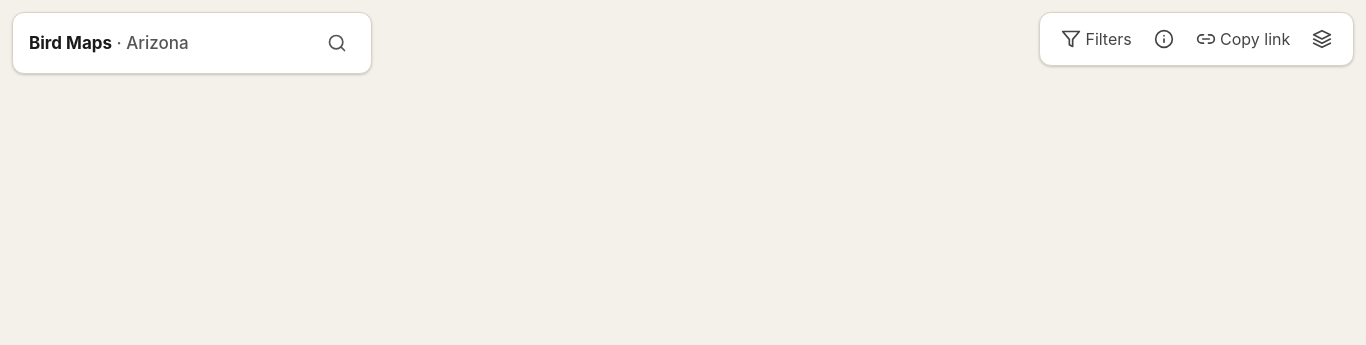
Test case: <AppHeader> › opening the scope disclosure closes an open theme popover
The width and height of the screenshot is (1366, 345).
Click the button named "Map theme:": {"x": 1322, "y": 39} x1=1303 y1=21 x2=1341 y2=57
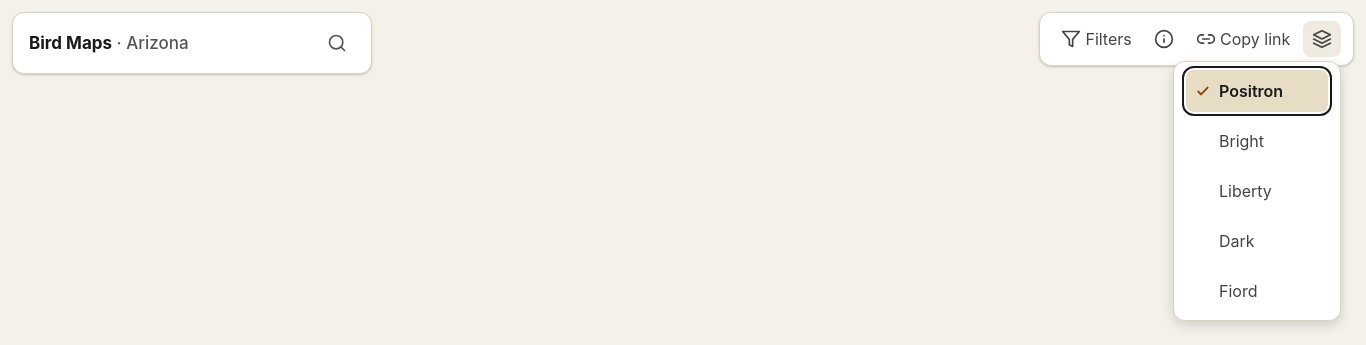
Now the button named "Map theme:" is expanded, box x1=1303 y1=21 x2=1341 y2=57
Click the button named "change region": {"x": 337, "y": 43} x1=319 y1=25 x2=355 y2=61
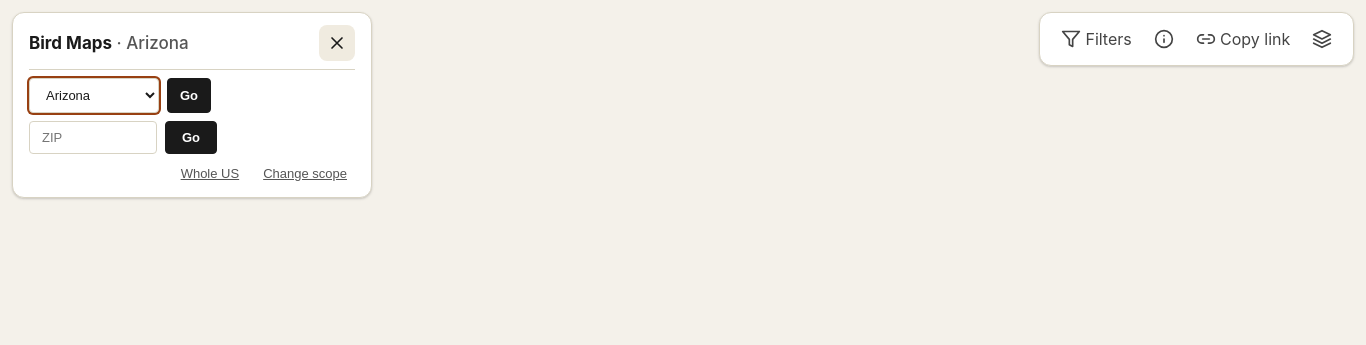
Now the button named "Close scope options" is expanded, box x1=319 y1=25 x2=355 y2=61
Now the button named "Map theme:" is collapsed, box x1=1303 y1=21 x2=1341 y2=57
